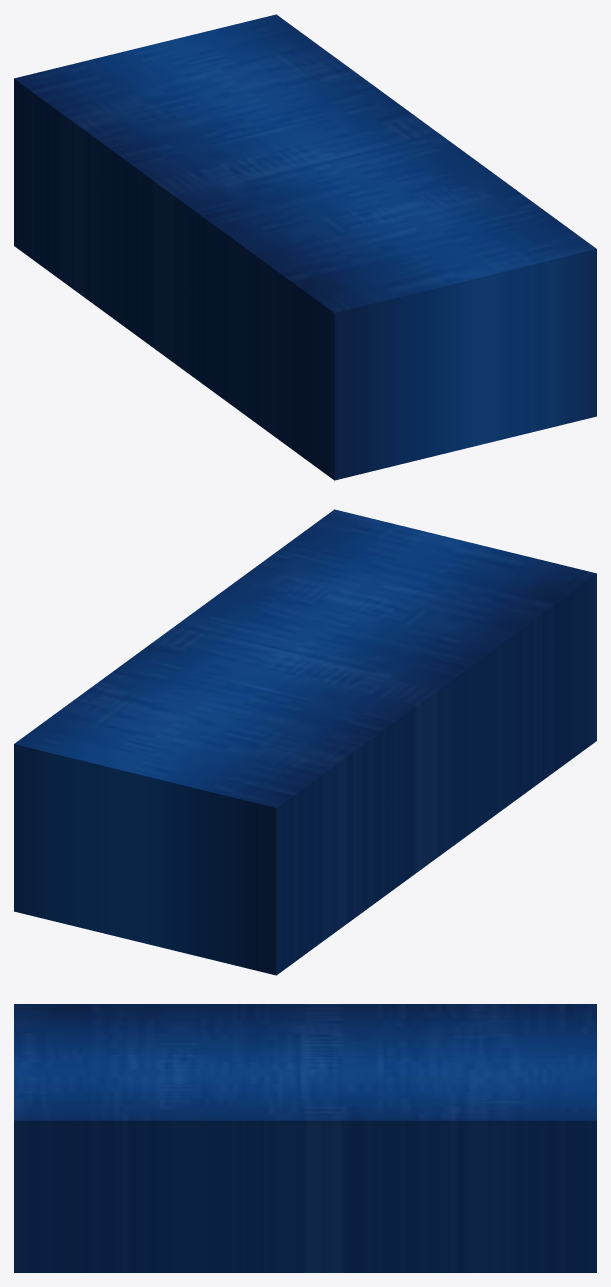
Rendered from lowres-carsu.obj.
3 views of the same model, one above another, from view 1: azimuth 30°, elevation 25°; view 2: azimuth 150°, elevation 25°; view 3: azimuth 270°, elevation 25° (orthographic). The views are drawn at different scales.
Parts seen in each view (by area): view 1: pPlane1; view 2: pPlane1; view 3: pPlane1.
Part boxes in pixels (bbox=[...]): pPlane1: bbox=[14, 14, 596, 480]; pPlane1: bbox=[14, 509, 596, 975]; pPlane1: bbox=[14, 1004, 596, 1272].
Bounding box in the file's own units: 83.43 × 50.88 × 176.
